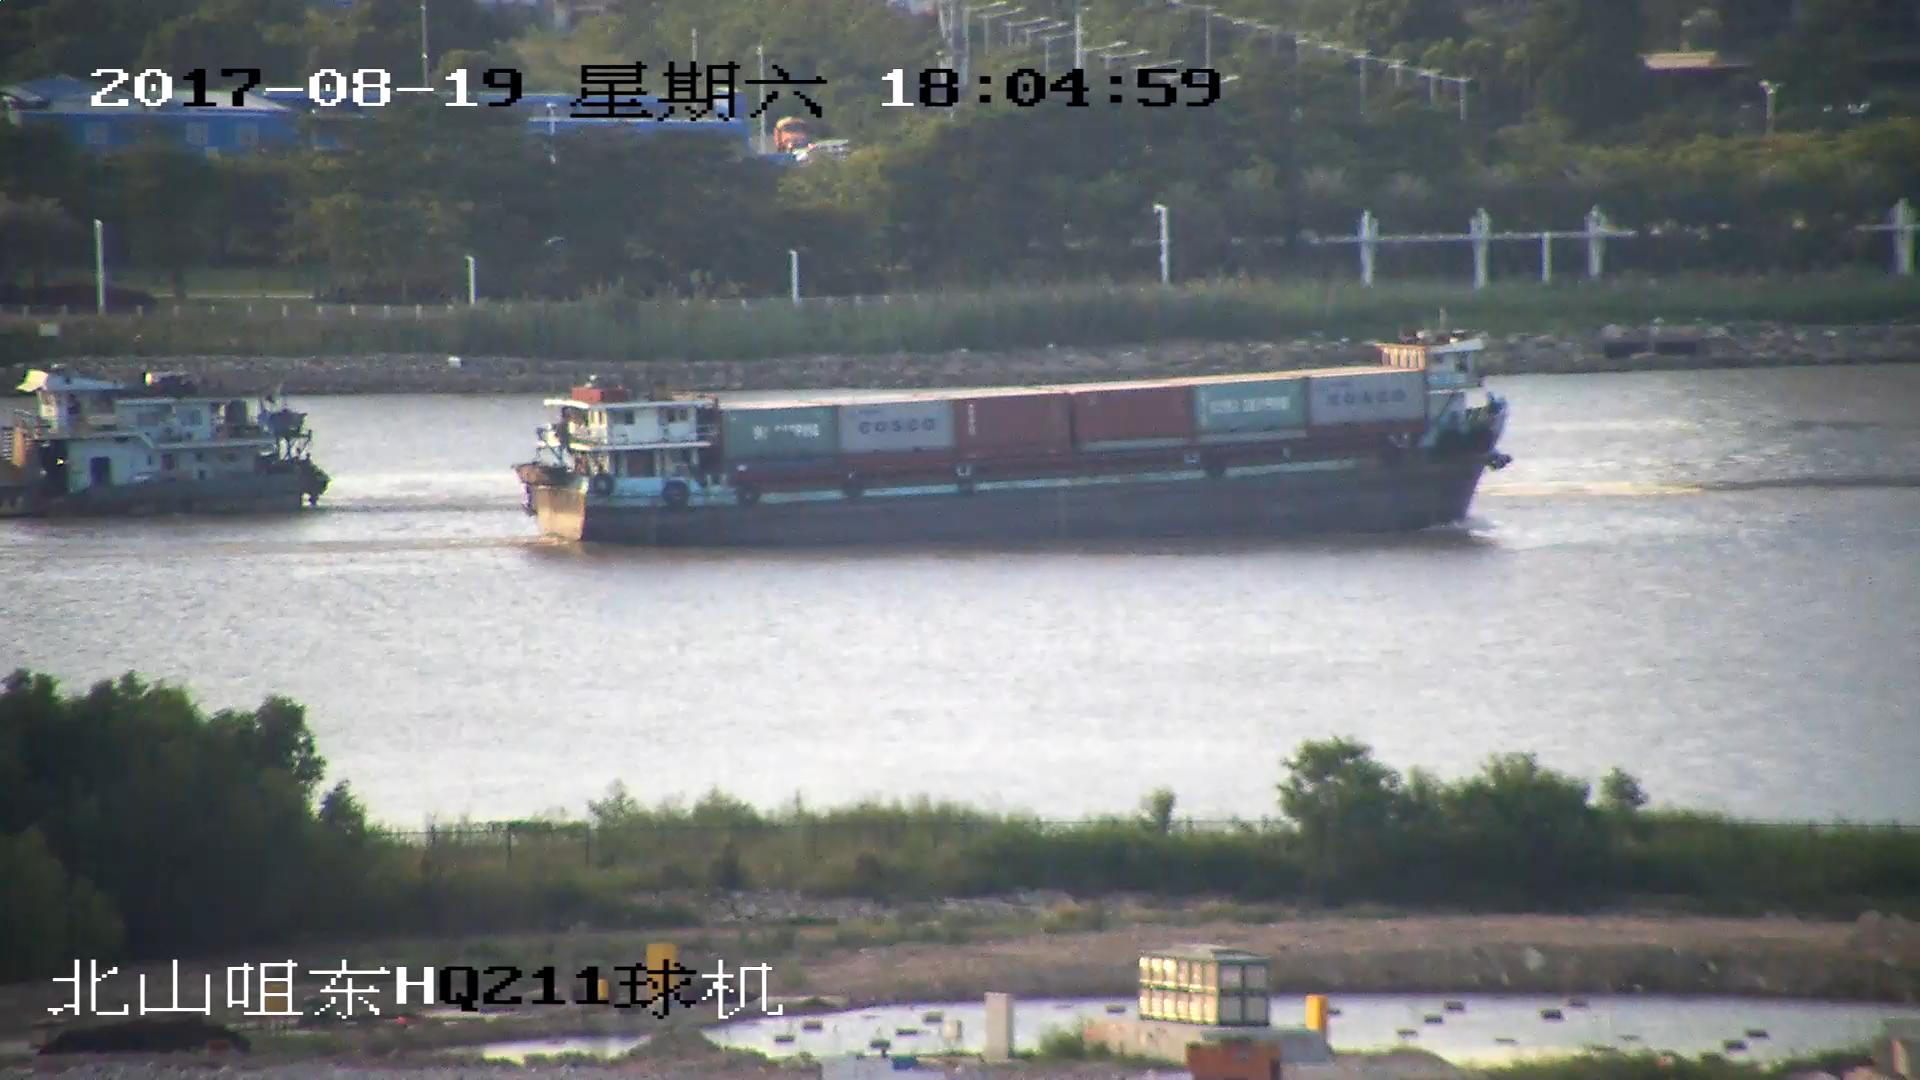container ship: (518, 328, 1512, 545), (1, 365, 333, 516)
